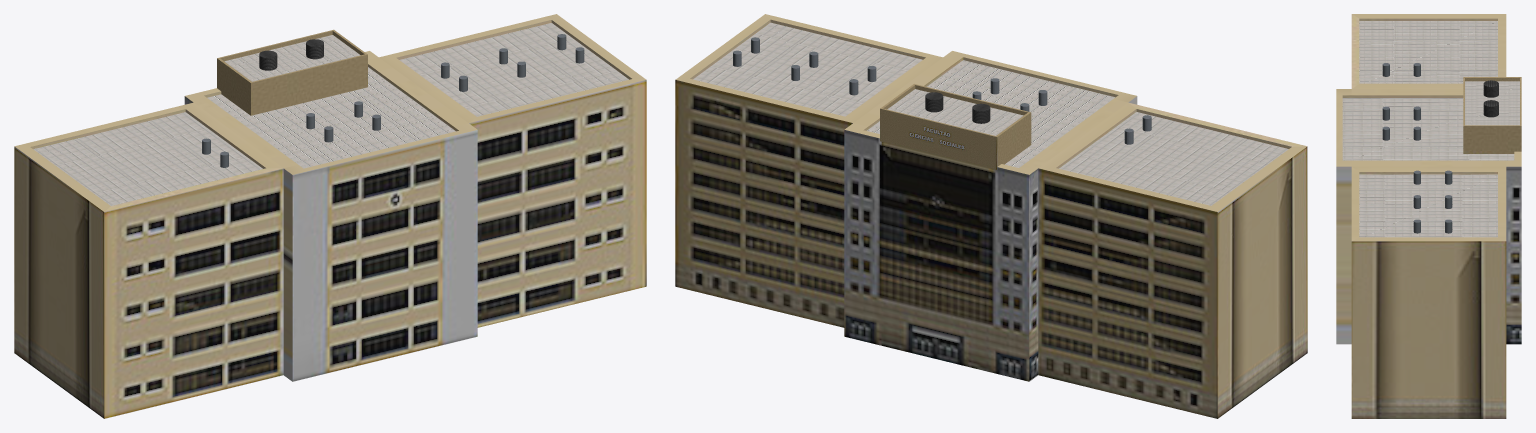
File: edificiosociales.fbx
The picture shows the model from 3 angles, left to right: view 1: azimuth 30°, elevation 25°; view 2: azimuth 150°, elevation 25°; view 3: azimuth 270°, elevation 25°; orthographic projection. The views are drawn at different scales.
Parts seen in each view (by area): view 1: Cube, Cube.001; view 2: Cube, Cube.001; view 3: Cube, Cube.001, Cylinder, Cylinder.001.
Boxes of the visible parts, x1,y1,x2,y2 form: Cube: (14, 14, 646, 418); Cube.001: (217, 29, 367, 115); Cube: (675, 14, 1307, 418); Cube.001: (880, 84, 1031, 169); Cube: (1336, 14, 1521, 418); Cube.001: (1463, 77, 1521, 153); Cylinder: (1483, 80, 1498, 97); Cylinder.001: (1483, 100, 1498, 117).
Size of the model in its own units: 697 by 301 by 240.
